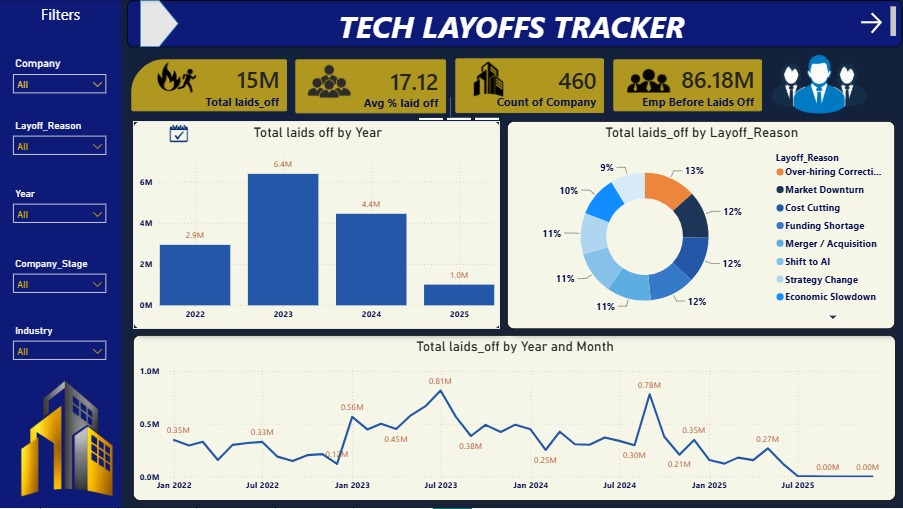

The page's visual inventory and layout, read from the dashboard file:
{"tool":"powerbi","page":{"name":"PAGE 1","canvas":[1280,720],"ordinal":0},"visuals":[{"type":"textbox","box":[181.3,0,1098.7,67.2],"z":0},{"type":"lineChart","fields":{"Category":["tech_layoffs_dataset-1.Layoff_Date.Variation.Date Hierarchy.Year","tech_layoffs_dataset-1.Layoff_Date.Variation.Date Hierarchy.Month"],"Y":["tech_layoffs_dataset-1.Total laids_off"]},"box":[189.3,475,1081,234.5],"z":1000},{"type":"columnChart","title":"Total laids off by Year","fields":{"Category":["tech_layoffs_dataset-1.Layoff_Date.Variation.Date Hierarchy.Year"],"Y":["tech_layoffs_dataset-1.Total laids_off"]},"box":[189.3,171.4,521.4,295.2],"z":2000},{"type":"textbox","title":"Filters","box":[1.2,0,171.7,720.5],"z":3000},{"type":"slicer","fields":{"Values":["tech_layoffs_dataset-1.Company_Stage"]},"box":[9.6,360.2,152.5,60],"z":4000},{"type":"cardVisual","fields":{"Data":["tech_layoffs_dataset-1.Total laids_off"]},"box":[181,77.4,233.3,86.9],"z":5000},{"type":"cardVisual","fields":{"Data":["tech_layoffs_dataset-1.Avg % laid off"]},"box":[414.3,77.4,226.2,89.3],"z":6000},{"type":"cardVisual","fields":{"Data":["Count(tech_layoffs_dataset-1.Company)"]},"box":[640.5,76.2,223.8,90.5],"z":7000},{"type":"cardVisual","fields":{"Data":["tech_layoffs_dataset-1.BEFORE LAID_OFF"]},"box":[864.3,77.4,223.8,86.9],"z":8000},{"type":"slicer","fields":{"Values":["tech_layoffs_dataset-1.Layoff_Reason"]},"box":[9.6,164.5,152.5,60],"z":9000},{"type":"slicer","fields":{"Values":["tech_layoffs_dataset-1.Company"]},"box":[9.6,75.6,152.5,60],"z":10000},{"type":"slicer","fields":{"Values":["tech_layoffs_dataset-1.Layoff_Date.Variation.Date Hierarchy.Year"]},"box":[9.6,260.6,152.5,60],"z":11000},{"type":"image","box":[1054.8,60.7,216.7,111.9],"z":12000},{"type":"image","box":[427.4,86.9,79.8,57.1],"z":13000},{"type":"image","box":[209.5,86.9,83.3,46.4],"z":14000},{"type":"slicer","fields":{"Values":["tech_layoffs_dataset-1.Industry"]},"box":[9.5,454.8,152.5,60],"z":15000},{"type":"shape","box":[199.3,0,54.8,66.7],"z":16000},{"type":"actionButton","box":[1216.4,13.2,63.6,39.6],"z":17000},{"type":"image","box":[226.2,176.2,56,27.4],"z":18000},{"type":"image","box":[884.5,86.9,72.6,54.8],"z":19000},{"type":"image","box":[0,536.9,189.3,172.6],"z":20000},{"type":"image","box":[640.5,86.9,104.8,52.4],"z":21000},{"type":"donutChart","fields":{"Category":["tech_layoffs_dataset-1.Layoff_Reason"],"Y":["tech_layoffs_dataset-1.Total laids_off"]},"box":[720.4,171.7,550.1,294.6],"z":22000}]}

Visuals, with their boxes in screenshot pixels (x1, y1, x2, y2), scaled from the page's 1280x720 canvas onto the 903x509 screenshot:
textbox: [128,0,902,48]
lineChart - tech_layoffs_dataset-1.Layoff_Date.Variation.Date Hierarchy.Year x tech_layoffs_dataset-1.Layoff_Date.Variation.Date Hierarchy.Month: [134,336,896,502]
"Total laids off by Year" columnChart: [134,121,501,330]
"Filters" textbox: [1,0,122,508]
slicer - tech_layoffs_dataset-1.Company_Stage: [7,255,114,297]
cardVisual - tech_layoffs_dataset-1.Total laids_off: [128,55,292,116]
cardVisual - tech_layoffs_dataset-1.Avg % laid off: [292,55,452,118]
cardVisual - Count(tech_layoffs_dataset-1.Company): [452,54,610,118]
cardVisual - tech_layoffs_dataset-1.BEFORE LAID_OFF: [610,55,768,116]
slicer - tech_layoffs_dataset-1.Layoff_Reason: [7,116,114,159]
slicer - tech_layoffs_dataset-1.Company: [7,53,114,96]
slicer - tech_layoffs_dataset-1.Layoff_Date.Variation.Date Hierarchy.Year: [7,184,114,227]
image: [744,43,897,122]
image: [302,61,358,102]
image: [148,61,207,94]
slicer - tech_layoffs_dataset-1.Industry: [7,322,114,364]
shape: [141,0,179,47]
actionButton: [858,9,902,37]
image: [160,125,199,144]
image: [624,61,675,100]
image: [0,380,134,502]
image: [452,61,526,98]
donutChart - tech_layoffs_dataset-1.Layoff_Reason x tech_layoffs_dataset-1.Total laids_off: [508,121,896,330]
